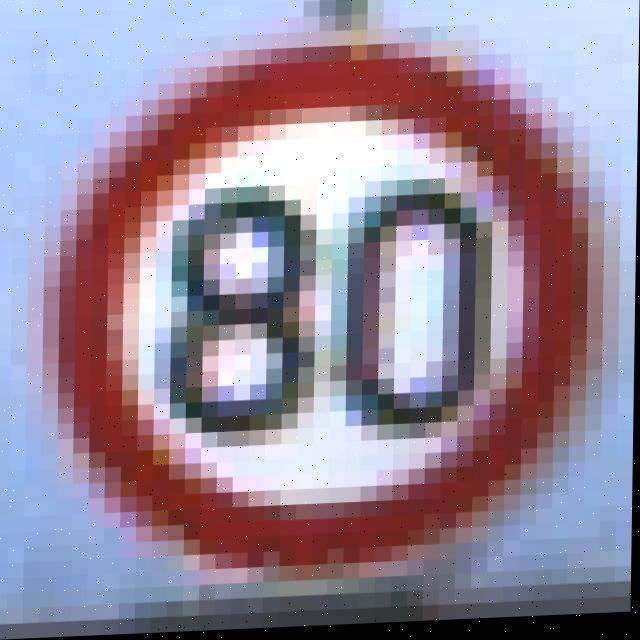speed_limit_80: (60, 35, 610, 583)
